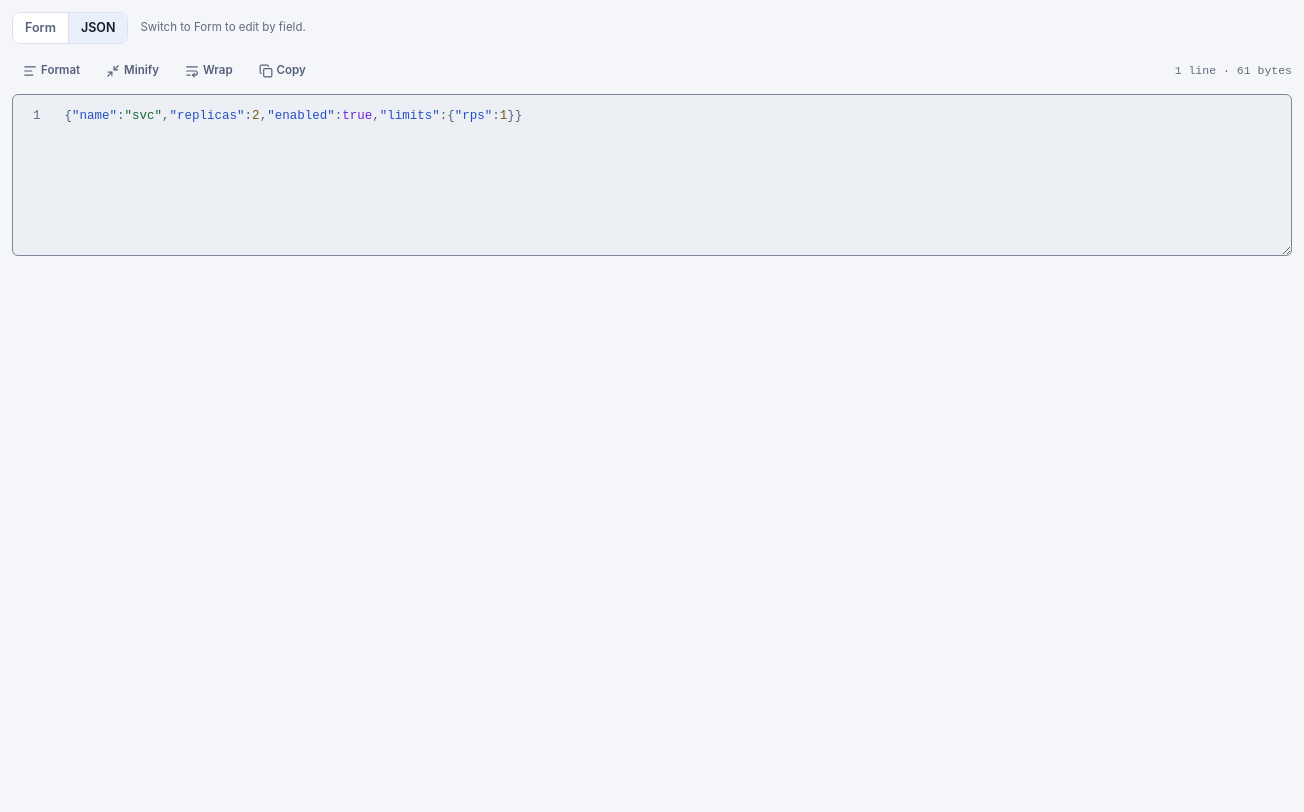
Test: SchemaForm as a labelled control › opens an inferred schema on the JSON view and says where the fields came from
Click the button "Form" at (40,28), box [13,13,68,43]
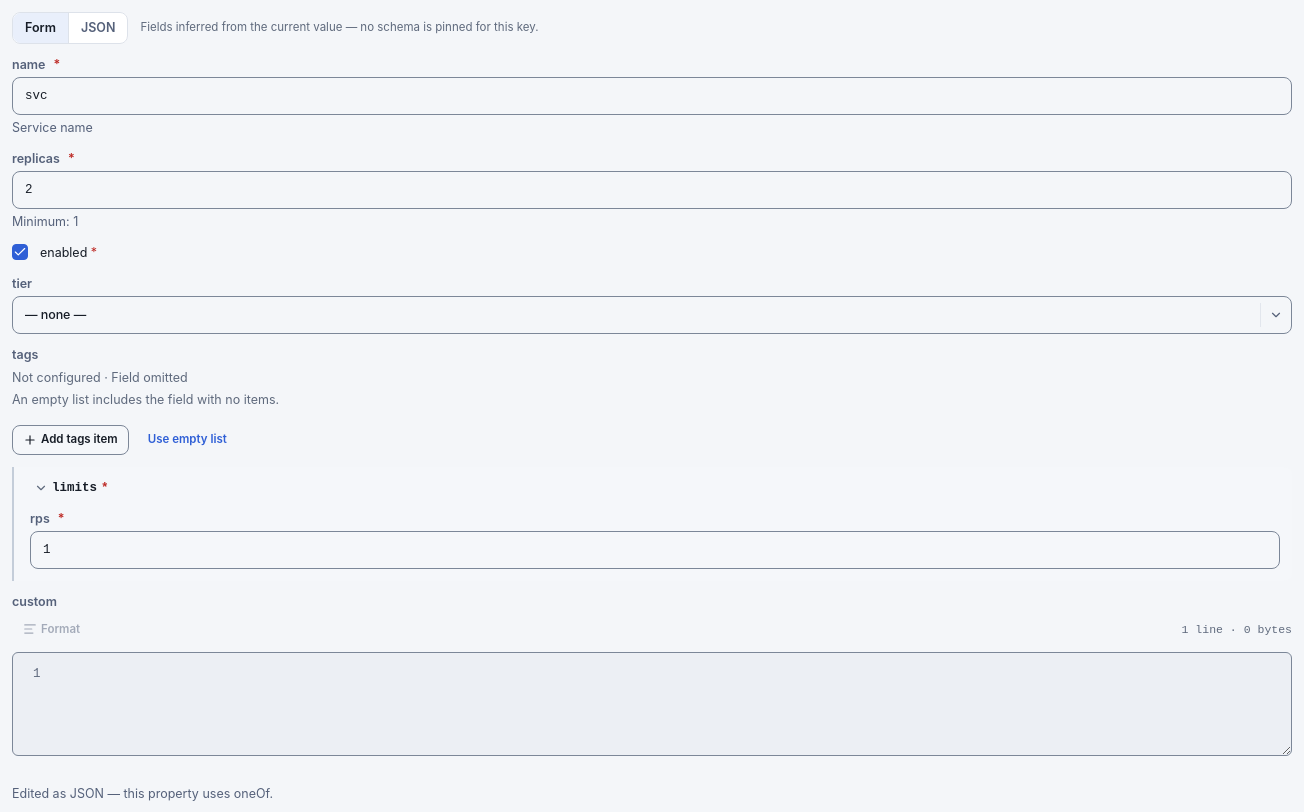
Now the text "Fields inferred from the current value" is shown, box [140,20,538,34]
